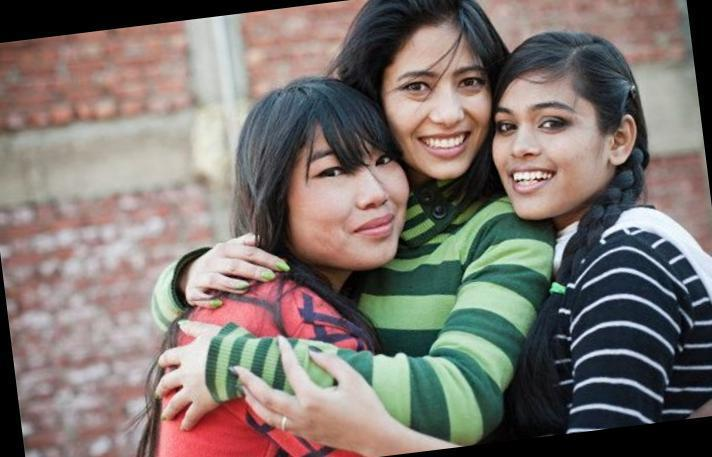Sober: (294, 116, 399, 267), (383, 38, 496, 178), (498, 70, 601, 212)
